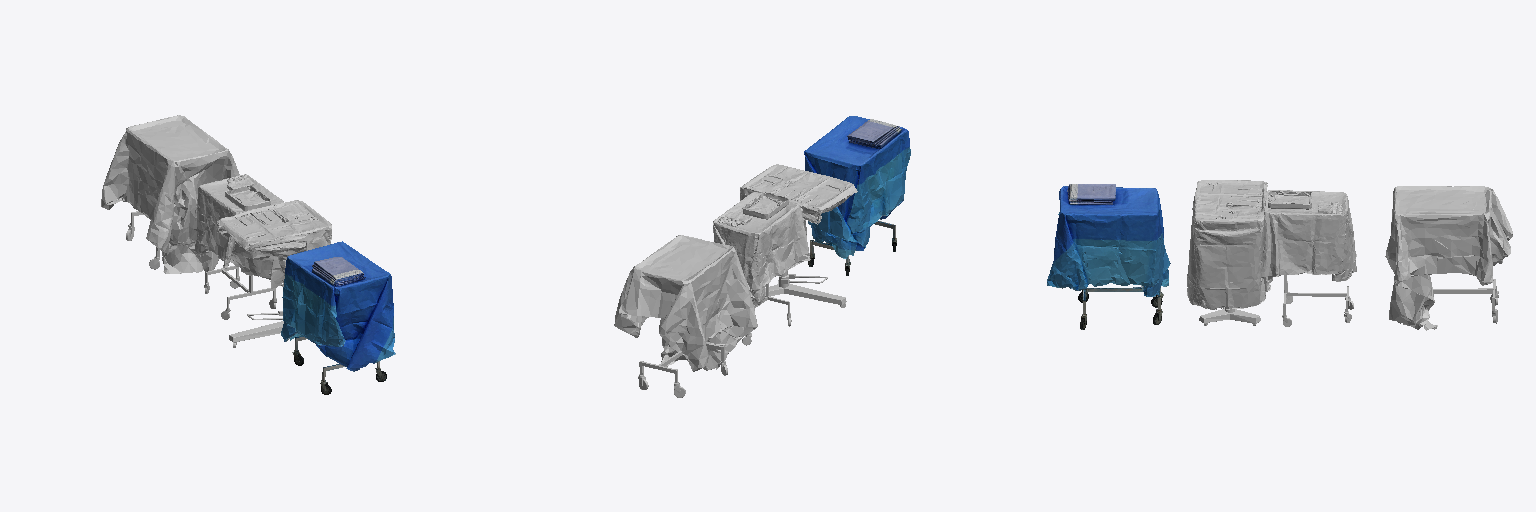
The picture shows the model from 3 angles: view 1: azimuth 30°, elevation 25°; view 2: azimuth 150°, elevation 25°; view 3: azimuth 270°, elevation 25°; orthographic projection.
Visible parts, largest first — view 1: Surgical_Table_Single_Empty, Surgical_Table_Single_Cloth, Surgical_Table_Double; view 2: Surgical_Table_Single_Empty, Surgical_Table_Double, Surgical_Table_Single_Cloth; view 3: Surgical_Table_Double, Surgical_Table_Single_Empty, Surgical_Table_Single_Cloth.
Part boxes in pixels (x1,y1,x2,y2): Surgical_Table_Single_Empty: (101, 115, 239, 273); Surgical_Table_Single_Cloth: (281, 241, 395, 394); Surgical_Table_Double: (194, 174, 331, 347); Surgical_Table_Single_Empty: (614, 235, 757, 397); Surgical_Table_Double: (713, 164, 857, 345); Surgical_Table_Single_Cloth: (804, 116, 910, 275); Surgical_Table_Double: (1187, 180, 1356, 326); Surgical_Table_Single_Empty: (1385, 186, 1512, 330); Surgical_Table_Single_Cloth: (1047, 184, 1170, 329).
Bounding box in the file's own units: 1.08 × 1.23 × 4.29.
3 materials, 1 textured.